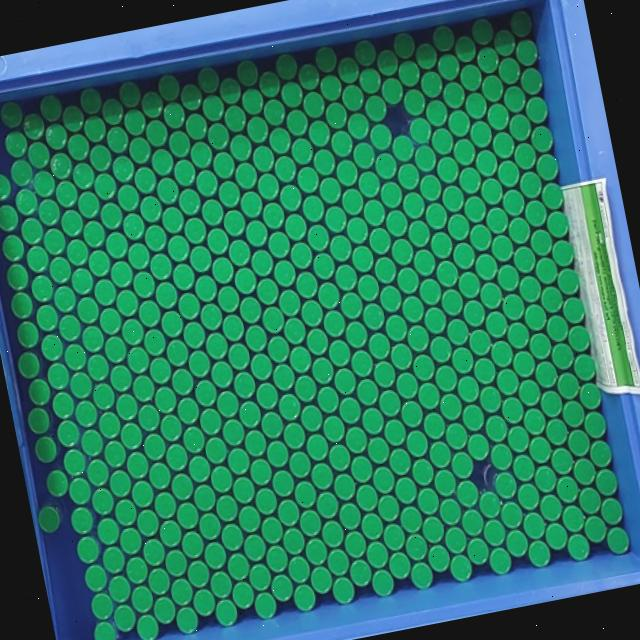vials: (535, 360, 558, 389), (573, 353, 596, 381), (600, 497, 623, 525), (607, 526, 630, 554), (562, 504, 585, 532), (545, 522, 568, 550), (556, 475, 579, 503), (573, 457, 596, 485), (529, 436, 552, 464), (494, 471, 517, 499), (463, 299, 486, 327), (480, 282, 503, 310), (450, 553, 473, 581), (428, 544, 451, 572), (293, 583, 316, 611), (261, 411, 284, 439), (221, 523, 244, 551), (172, 263, 195, 291), (177, 397, 200, 425), (536, 153, 559, 180), (584, 411, 607, 438), (584, 515, 607, 542), (567, 533, 590, 560), (551, 447, 574, 474), (557, 372, 580, 399), (518, 379, 541, 406), (507, 425, 530, 452), (490, 443, 513, 470), (500, 501, 523, 528), (528, 540, 551, 567), (489, 547, 512, 574), (483, 519, 506, 546), (485, 415, 508, 442), (524, 303, 547, 330), (535, 257, 558, 284), (403, 89, 426, 116), (451, 451, 474, 478), (456, 480, 479, 507), (400, 505, 423, 532), (383, 523, 406, 550), (328, 339, 351, 366), (345, 426, 368, 453), (283, 422, 306, 449), (327, 548, 350, 575), (332, 576, 355, 603), (310, 566, 333, 593), (272, 469, 295, 496), (266, 440, 289, 467), (151, 148, 174, 175), (254, 591, 277, 618), (232, 581, 255, 608), (227, 553, 250, 580), (534, 465, 556, 493), (479, 490, 501, 518), (498, 160, 520, 188), (497, 264, 519, 292), (462, 508, 484, 536), (418, 382, 440, 410), (402, 295, 424, 323), (395, 476, 417, 504), (389, 551, 411, 579), (291, 137, 313, 165), (205, 436, 227, 464), (204, 541, 226, 569), (188, 560, 210, 588), (182, 530, 204, 558), (523, 512, 546, 538), (517, 483, 540, 509), (462, 404, 485, 430), (508, 217, 531, 243), (507, 322, 530, 348), (469, 329, 492, 355), (424, 307, 447, 333), (439, 498, 462, 524), (345, 321, 368, 347), (366, 541, 389, 567), (244, 430, 267, 456), (271, 574, 294, 600), (516, 39, 538, 66), (521, 68, 543, 95), (526, 96, 548, 123), (531, 125, 553, 152), (552, 240, 574, 267), (568, 325, 590, 352), (579, 382, 601, 409), (590, 440, 612, 467), (596, 469, 618, 496), (540, 494, 562, 521), (568, 429, 590, 456), (546, 418, 568, 445), (524, 407, 546, 434), (562, 400, 584, 427), (502, 397, 524, 424), (513, 454, 535, 481), (506, 529, 528, 556), (468, 433, 490, 460), (497, 368, 519, 395), (513, 350, 535, 377), (519, 275, 541, 302), (514, 246, 536, 273), (525, 200, 547, 227), (520, 171, 542, 198), (514, 143, 536, 170), (486, 206, 508, 233), (481, 178, 503, 205), (476, 149, 498, 176), (470, 121, 492, 148), (487, 103, 509, 130), (509, 114, 531, 141), (504, 86, 526, 113), (498, 58, 520, 85), (460, 64, 482, 91), (472, 18, 494, 45), (454, 139, 476, 166), (464, 196, 486, 223), (470, 224, 492, 251), (475, 253, 497, 280), (503, 293, 525, 320), (491, 340, 513, 367), (437, 156, 459, 183), (409, 117, 431, 144), (392, 135, 414, 162), (414, 145, 436, 172), (403, 192, 425, 219), (408, 220, 430, 247), (414, 249, 436, 276), (447, 318, 469, 345), (430, 336, 452, 363), (452, 346, 474, 373), (435, 365, 457, 392), (440, 393, 462, 420), (446, 422, 468, 449), (467, 537, 489, 564), (445, 526, 467, 553), (434, 469, 456, 496), (424, 412, 446, 439), (413, 354, 435, 381), (391, 343, 413, 370), (385, 314, 407, 341), (380, 285, 402, 312), (397, 267, 419, 294), (386, 210, 408, 237), (353, 142, 375, 169), (347, 113, 369, 140), (370, 123, 392, 150), (365, 95, 387, 122), (342, 84, 364, 111), (359, 67, 381, 94), (331, 130, 353, 157), (342, 188, 364, 215), (352, 245, 374, 272), (368, 332, 390, 359), (379, 389, 401, 416), (406, 430, 428, 457), (412, 458, 434, 485), (389, 448, 411, 475), (417, 487, 439, 514), (406, 533, 428, 560), (411, 561, 433, 588), (378, 495, 400, 522), (373, 466, 395, 493), (362, 407, 384, 434), (357, 379, 379, 406), (341, 292, 363, 319), (330, 235, 352, 262), (303, 91, 325, 118), (298, 63, 320, 90), (281, 81, 303, 108), (286, 109, 308, 136), (297, 166, 319, 193), (308, 224, 330, 251), (318, 282, 340, 309), (323, 310, 345, 337), (334, 367, 356, 394), (339, 397, 361, 424), (351, 455, 373, 482), (356, 484, 378, 511), (372, 569, 394, 596), (350, 559, 372, 586), (344, 530, 366, 557), (339, 502, 361, 529), (334, 473, 356, 500), (312, 357, 334, 384), (301, 300, 323, 327), (274, 260, 296, 287), (268, 231, 290, 258), (285, 213, 307, 240), (263, 202, 285, 229), (280, 184, 302, 211), (269, 127, 291, 154), (247, 116, 269, 143), (224, 105, 246, 132), (230, 134, 252, 161), (235, 162, 257, 189), (241, 191, 263, 218), (257, 278, 279, 305), (262, 306, 284, 333), (295, 375, 317, 402), (273, 363, 295, 390), (301, 404, 323, 431), (317, 491, 339, 518), (322, 520, 344, 547), (288, 556, 310, 583), (283, 528, 305, 555), (278, 499, 300, 526), (256, 382, 278, 409), (251, 353, 273, 380), (240, 296, 262, 323), (224, 209, 246, 236), (213, 152, 235, 179), (191, 142, 213, 169), (196, 170, 218, 197), (169, 130, 191, 157), (174, 159, 196, 186), (179, 188, 201, 215), (202, 199, 224, 226), (201, 303, 223, 330), (228, 343, 250, 370), (211, 361, 233, 388), (217, 390, 239, 417), (239, 400, 261, 427), (228, 447, 250, 474), (255, 487, 277, 514), (261, 516, 283, 543), (244, 534, 266, 561), (266, 545, 288, 572), (249, 563, 271, 590), (211, 465, 233, 492), (200, 408, 222, 435), (195, 380, 217, 407), (184, 321, 206, 348), (146, 120, 168, 147), (129, 136, 151, 163), (157, 177, 179, 204), (140, 195, 162, 222), (172, 368, 194, 395), (183, 426, 205, 453), (189, 455, 211, 482), (194, 484, 216, 511), (199, 512, 221, 539), (210, 571, 232, 598), (216, 599, 238, 626), (177, 502, 199, 529), (171, 473, 193, 500), (166, 443, 188, 470), (155, 386, 177, 413), (482, 74, 503, 102), (380, 182, 403, 207), (510, 10, 532, 36), (542, 183, 564, 209), (547, 211, 569, 237), (563, 297, 585, 323), (579, 487, 601, 513), (479, 386, 501, 412), (474, 358, 496, 384), (530, 333, 552, 359), (552, 343, 574, 369), (547, 315, 569, 341), (541, 286, 563, 312), (530, 229, 552, 255), (465, 93, 487, 119), (477, 47, 499, 73), (454, 36, 476, 62), (433, 25, 455, 51), (438, 54, 460, 80), (443, 82, 465, 108), (448, 110, 470, 136), (454, 139, 476, 165), (459, 167, 481, 193), (453, 242, 475, 268), (448, 214, 470, 240), (431, 128, 453, 154), (426, 100, 448, 126), (421, 71, 443, 97), (398, 163, 420, 189), (441, 289, 463, 315), (407, 325, 429, 351), (369, 228, 391, 254), (358, 171, 380, 197), (375, 153, 397, 179), (354, 40, 376, 66), (325, 102, 347, 128), (363, 303, 385, 329), (374, 361, 396, 387), (396, 372, 418, 398), (401, 401, 423, 427), (422, 516, 444, 542), (351, 350, 373, 376), (335, 264, 357, 290), (325, 206, 347, 232), (313, 149, 335, 175), (313, 253, 335, 279), (361, 513, 383, 539), (329, 444, 351, 470), (317, 386, 339, 412), (296, 271, 318, 297), (291, 242, 313, 268), (237, 60, 259, 86), (246, 220, 268, 246), (251, 250, 273, 276), (290, 346, 312, 372), (279, 394, 301, 420), (306, 434, 328, 460), (289, 451, 311, 477), (311, 463, 333, 489), (245, 325, 267, 351), (202, 95, 224, 121), (185, 113, 207, 139), (158, 75, 180, 101), (207, 228, 229, 254), (190, 246, 212, 272), (212, 257, 234, 283), (218, 286, 240, 312), (233, 477, 255, 503), (239, 505, 261, 531), (216, 495, 238, 521), (188, 351, 210, 377), (178, 293, 200, 319), (168, 235, 190, 261), (162, 207, 184, 233), (150, 253, 172, 279), (156, 282, 178, 308), (558, 268, 579, 295), (541, 390, 562, 417), (458, 375, 479, 402), (503, 189, 524, 216), (492, 234, 513, 261), (459, 271, 480, 298), (399, 60, 420, 87), (394, 32, 415, 59), (420, 174, 441, 201), (430, 440, 451, 467), (364, 199, 385, 226), (385, 418, 406, 445), (368, 436, 389, 463), (276, 53, 297, 80), (303, 195, 324, 222), (275, 156, 296, 183), (259, 71, 280, 98), (220, 77, 241, 104), (295, 481, 316, 508), (306, 538, 327, 565), (229, 239, 250, 266), (219, 180, 240, 207), (164, 102, 185, 129), (185, 217, 206, 244), (223, 314, 244, 341), (234, 371, 255, 398), (135, 167, 156, 194), (167, 339, 188, 366), (194, 588, 215, 615), (161, 414, 182, 441), (494, 30, 516, 55), (436, 261, 458, 286), (391, 239, 413, 264), (320, 75, 342, 100), (323, 416, 345, 441), (306, 328, 328, 353), (279, 290, 301, 315), (242, 89, 264, 114), (284, 318, 306, 343), (234, 268, 256, 293), (195, 276, 217, 301), (206, 333, 228, 358), (250, 459, 272, 484), (124, 110, 146, 135), (145, 226, 167, 251), (493, 132, 514, 158), (486, 311, 507, 337), (443, 185, 464, 211), (416, 43, 437, 69), (377, 50, 398, 76), (382, 78, 403, 104), (426, 203, 447, 229), (431, 232, 452, 258), (420, 279, 441, 305), (375, 257, 396, 283), (338, 57, 359, 83), (337, 160, 358, 186), (347, 217, 368, 243), (358, 275, 379, 301), (309, 120, 330, 146), (253, 145, 274, 171), (264, 99, 285, 125), (268, 336, 289, 362), (300, 510, 321, 536), (198, 67, 219, 93), (181, 84, 202, 110), (223, 419, 244, 445), (316, 47, 337, 72), (320, 178, 341, 203), (258, 174, 279, 199), (208, 123, 229, 148), (142, 92, 163, 117)
